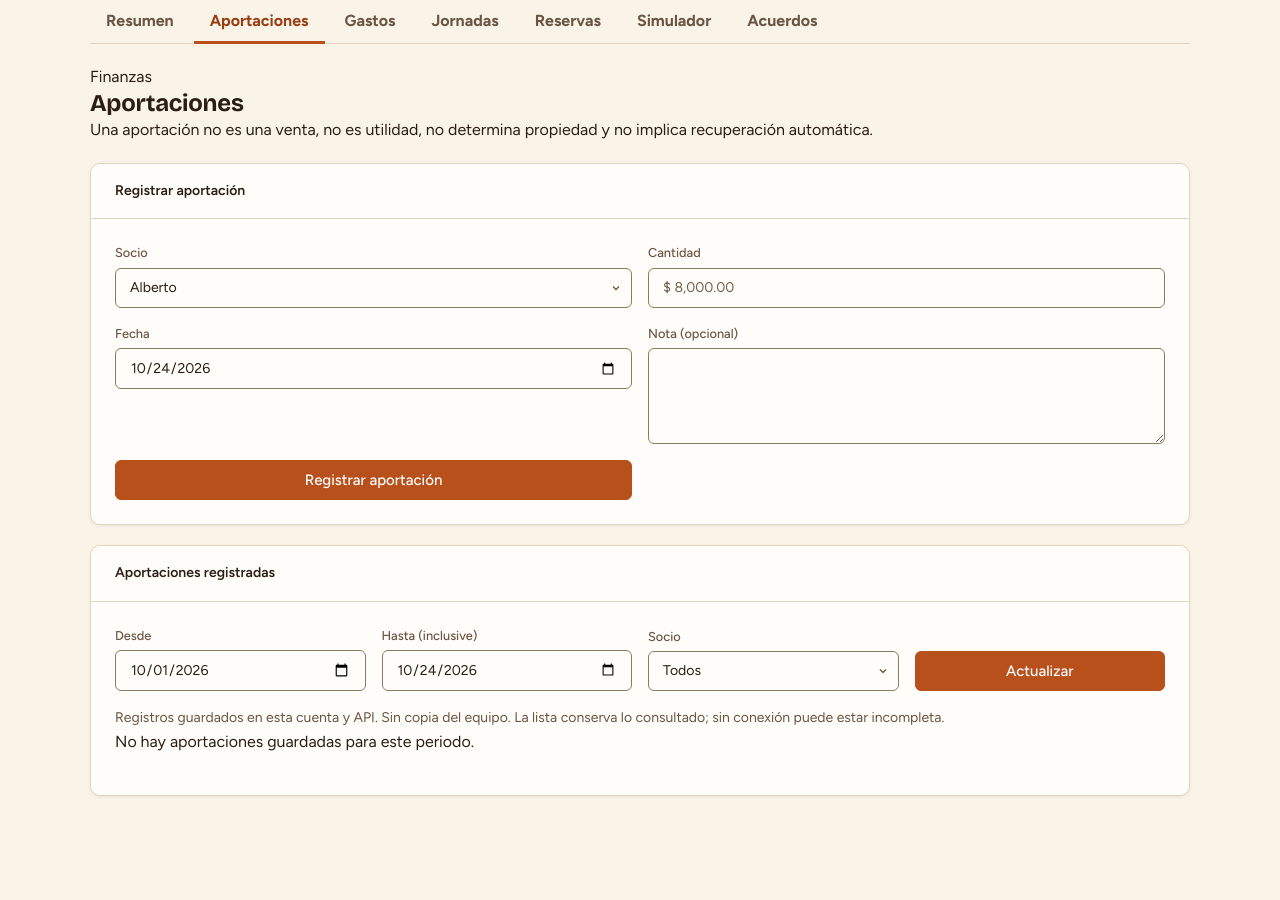
Test: contribution management › validates money instead of rounding invalid amounts
Select "Alberto" in the dropdown with id "contribution-member": (374, 288) [115, 268, 632, 308]
In the field with id "contribution-amount": (906, 288) [648, 268, 1165, 308], type "10.005"
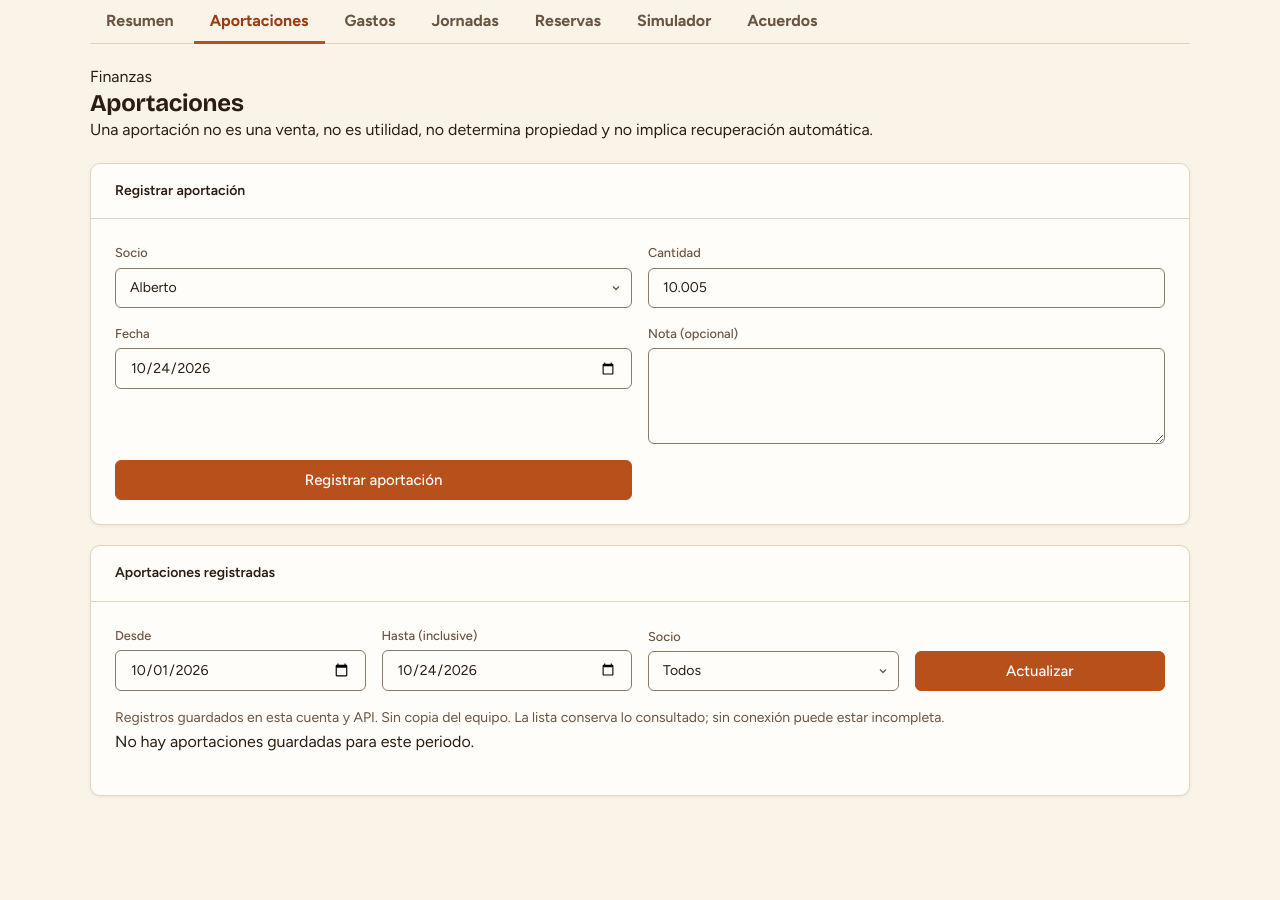
Submit the form with test id "create-form", box [115, 243, 1165, 500]
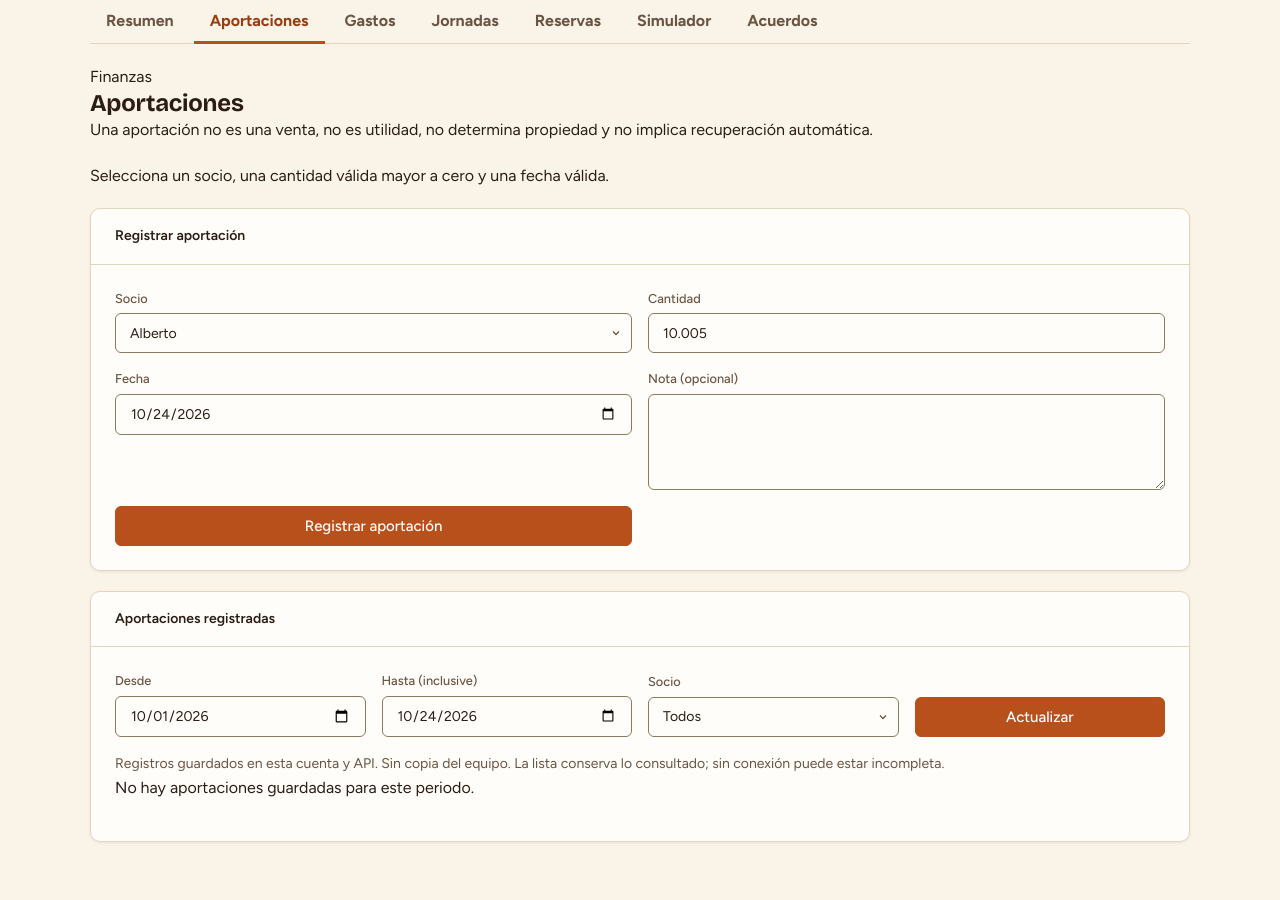
Now the text "Selecciona un socio" is shown, box [90, 166, 609, 185]
